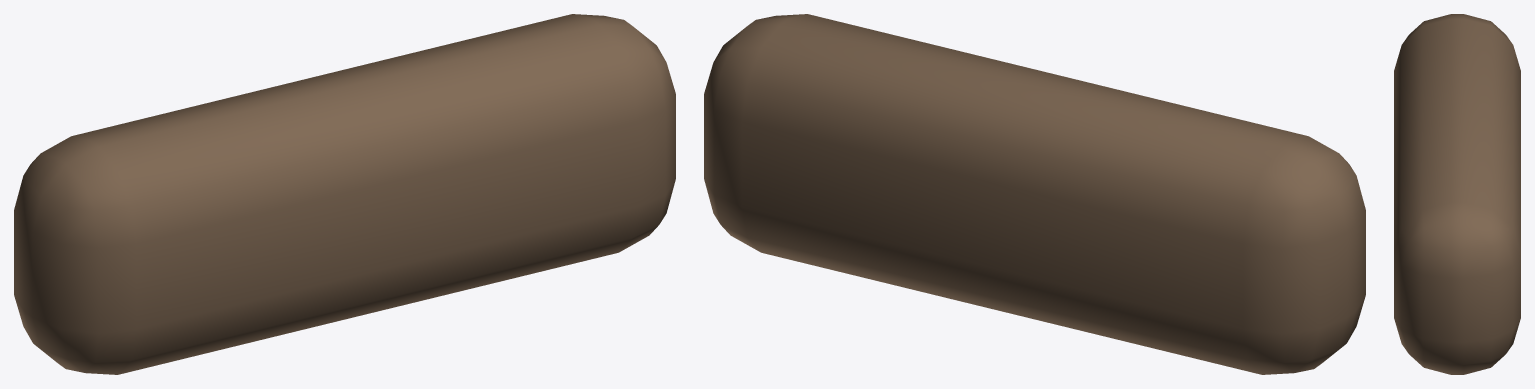
File: CharBrow.fbx
3 views of the same model, side by side, from view 1: azimuth 30°, elevation 25°; view 2: azimuth 150°, elevation 25°; view 3: azimuth 270°, elevation 25° (orthographic). The views are drawn at different scales.
Parts seen in each view (by area): view 1: CharBrow; view 2: CharBrow; view 3: CharBrow.
Boxes of the visible parts, box(x1,y1,x2,y2) form: CharBrow: box(14, 14, 675, 374); CharBrow: box(704, 14, 1365, 374); CharBrow: box(1394, 14, 1520, 374).
Bounding box in the file's own units: 0.095 × 0.032 × 0.022.
